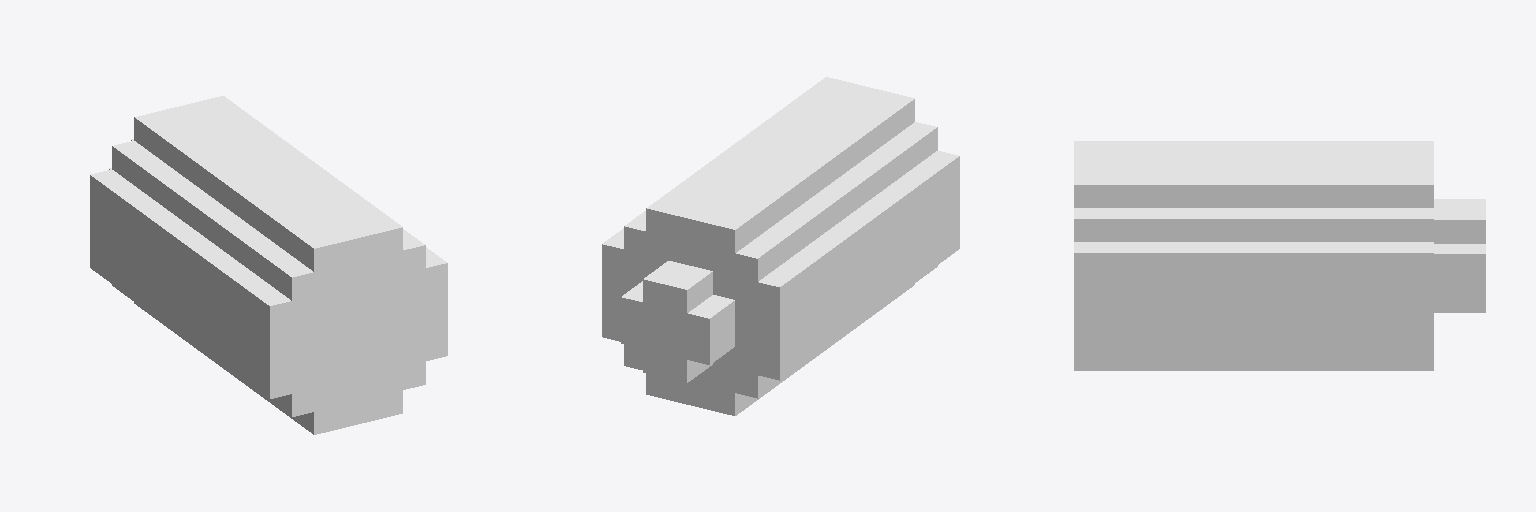
The model's file is pick-energy.obj.
3 views of the same model, side by side, from view 1: azimuth 30°, elevation 25°; view 2: azimuth 150°, elevation 25°; view 3: azimuth 270°, elevation 25° (orthographic).
Parts seen in each view (by area): view 1: object 1; view 2: object 1; view 3: object 1.
Part boxes in pixels (bbox=[...]): object 1: bbox=[90, 96, 447, 434]; object 1: bbox=[602, 77, 959, 415]; object 1: bbox=[1074, 141, 1485, 370].
Size of the model in its own units: 0.8 by 0.8 by 1.6.